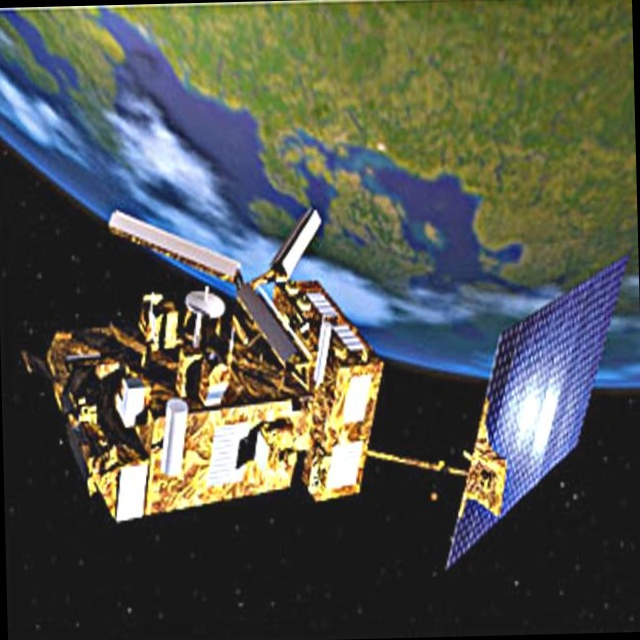satellite: (39, 202, 634, 580)
